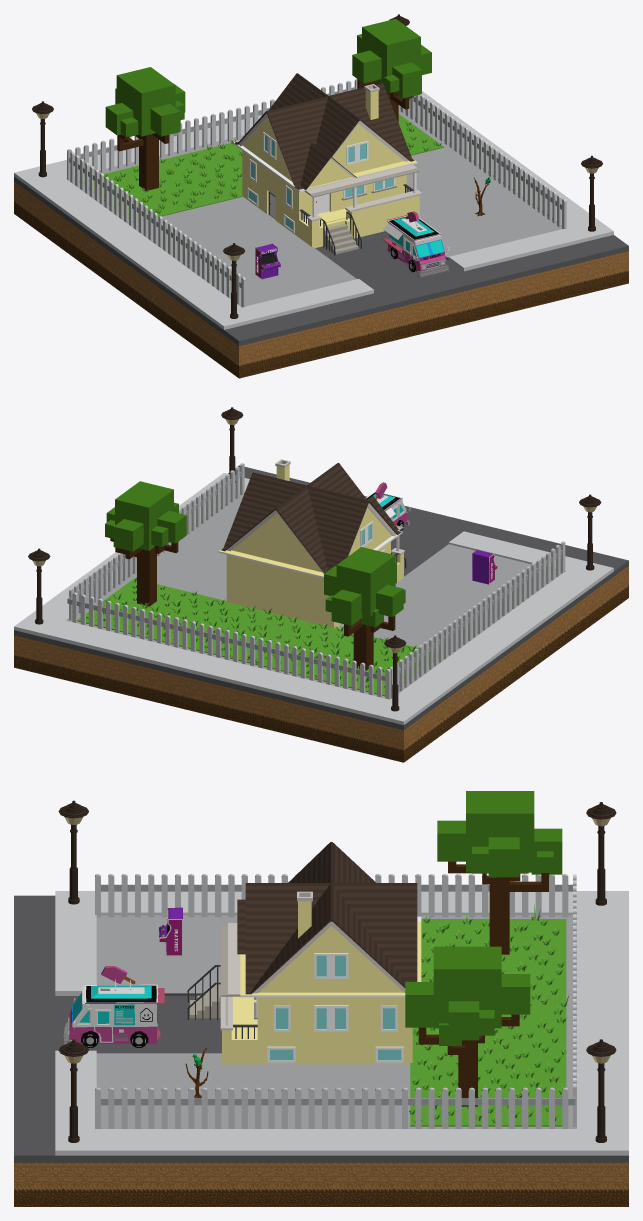
3 renders of one model, top to bottom at view 1: azimuth 30°, elevation 25°; view 2: azimuth 150°, elevation 25°; view 3: azimuth 270°, elevation 25°, orthographic. The views are drawn at different scales.
Visible parts, largest first — view 1: Cube.004, Cube.1555, VEHICLES_ICE_CREAM_TRUCK, OBJRANDOM_ARCADE; view 2: Cube.004, Cube.1555, VEHICLES_ICE_CREAM_TRUCK, OBJRANDOM_ARCADE; view 3: Cube.004, Cube.1555, VEHICLES_ICE_CREAM_TRUCK, OBJRANDOM_ARCADE.
Part boxes in pixels (x1,y1,x2,y2): Cube.004: [14, 14, 628, 378]; Cube.1555: [233, 73, 422, 255]; VEHICLES_ICE_CREAM_TRUCK: [382, 211, 449, 277]; OBJRANDOM_ARCADE: [255, 243, 280, 279]; Cube.004: [14, 407, 628, 762]; Cube.1555: [218, 459, 406, 627]; VEHICLES_ICE_CREAM_TRUCK: [366, 482, 410, 531]; OBJRANDOM_ARCADE: [472, 549, 497, 584]; Cube.004: [14, 791, 628, 1206]; Cube.1555: [187, 842, 421, 1064]; VEHICLES_ICE_CREAM_TRUCK: [63, 966, 164, 1047]; OBJRANDOM_ARCADE: [159, 907, 182, 956].
Size of the model in its own units: 4000 by 1700 by 4000.
50 materials, 3 textured.
